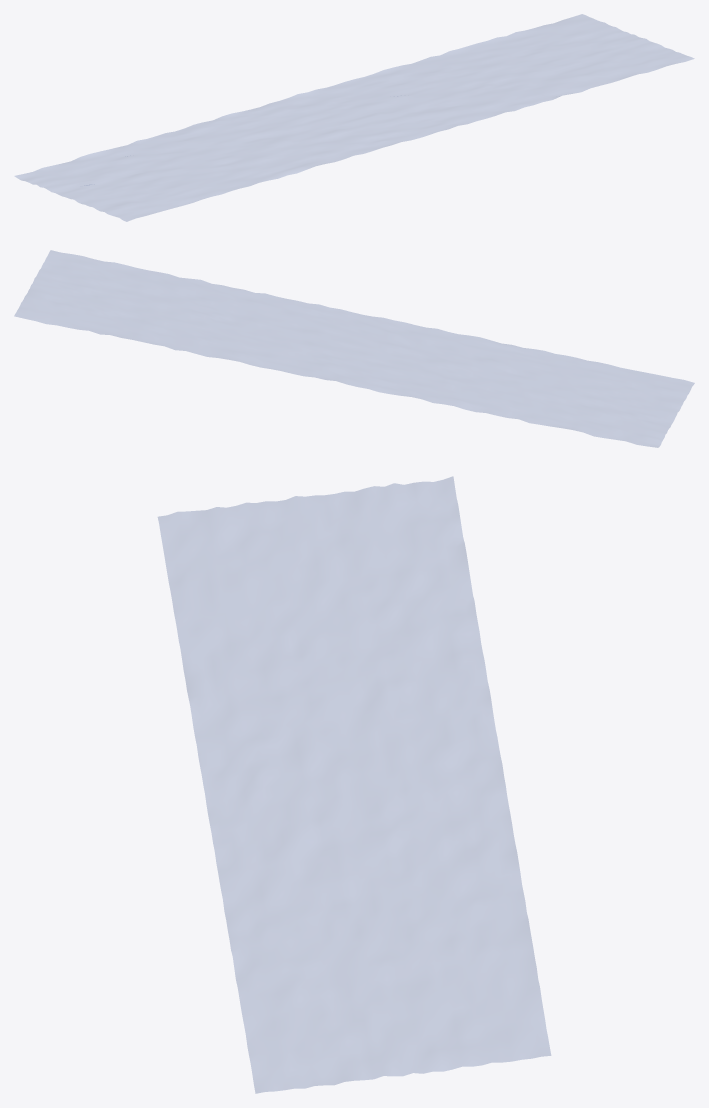
The picture shows the model from 3 angles, top to bottom: view 1: azimuth 30°, elevation 25°; view 2: azimuth 150°, elevation 25°; view 3: azimuth 270°, elevation 25°; orthographic projection. The views are drawn at different scales.
Visible parts, largest first — view 1: PlaneShape_0; view 2: PlaneShape_0; view 3: PlaneShape_0.
Boxes of the visible parts, x1=… form: PlaneShape_0: x1=14, y1=14, x2=694, y2=221; PlaneShape_0: x1=14, y1=250, x2=694, y2=447; PlaneShape_0: x1=157, y1=476, x2=551, y2=1093.
Bounding box in the file's own units: 1687 × 7.23 × 455.
